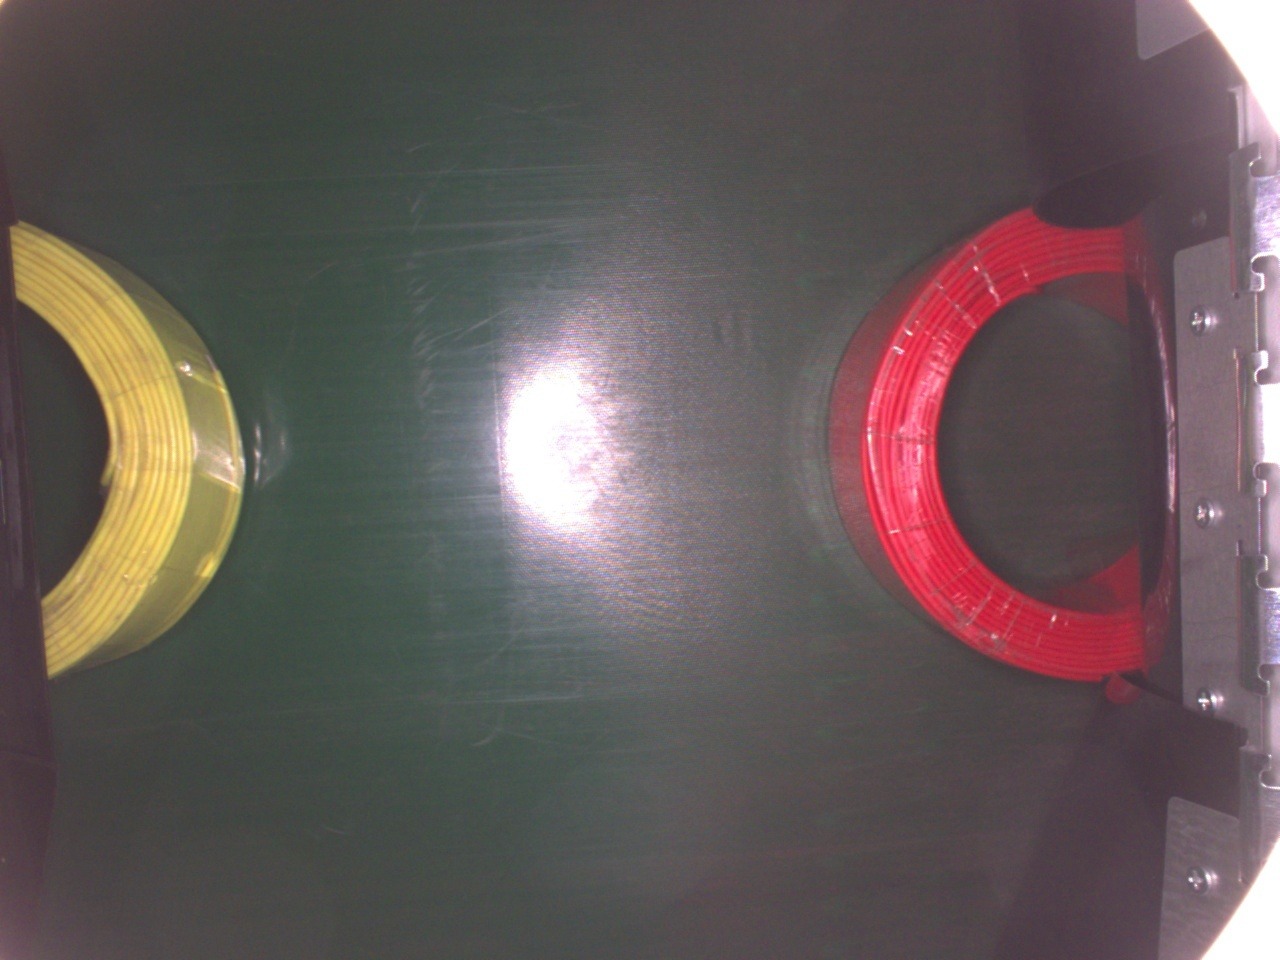red: (829, 204, 1141, 683)
yellow: (12, 220, 250, 672)
